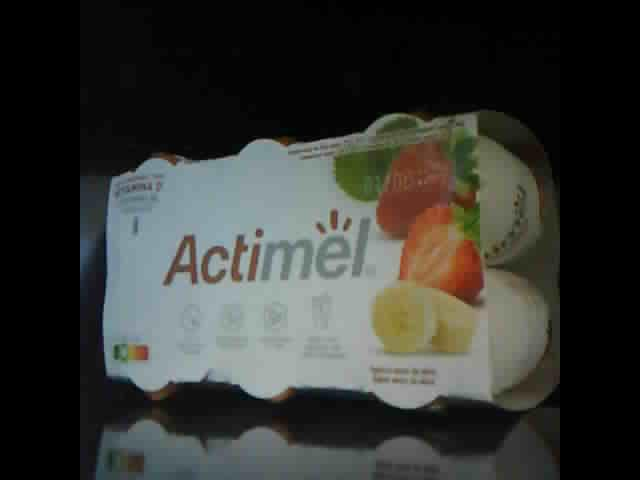actimel: (101, 108, 559, 413)
